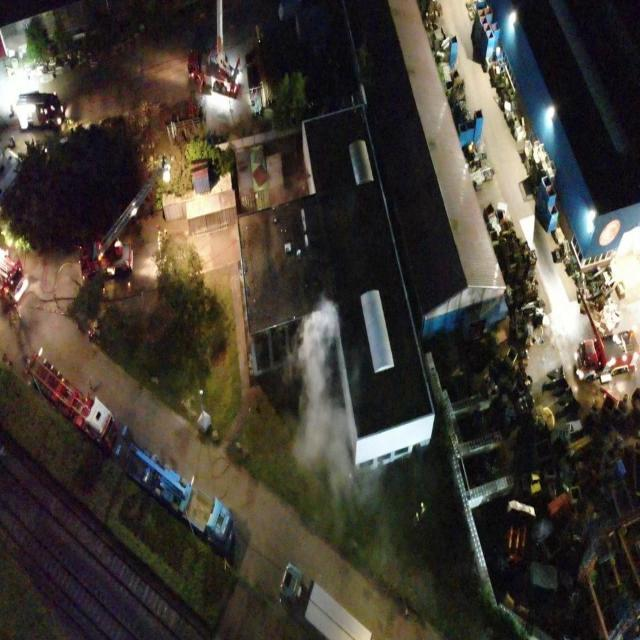Smoke: (286, 292, 363, 510)
